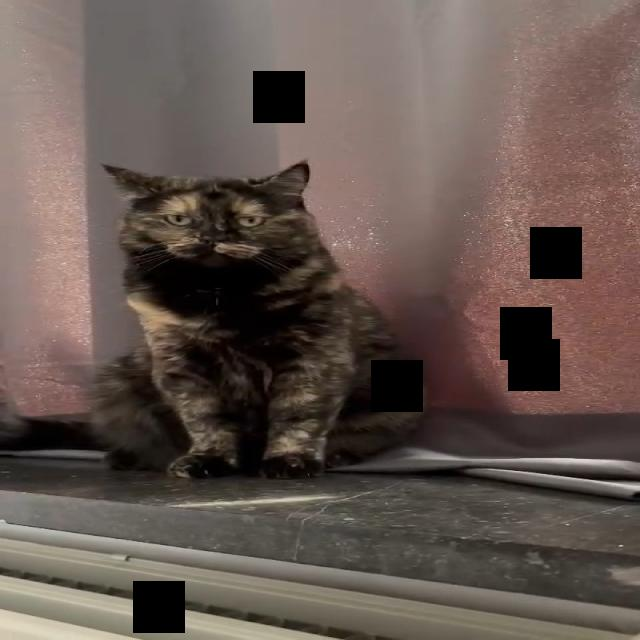authorized: (87, 158, 428, 480)
